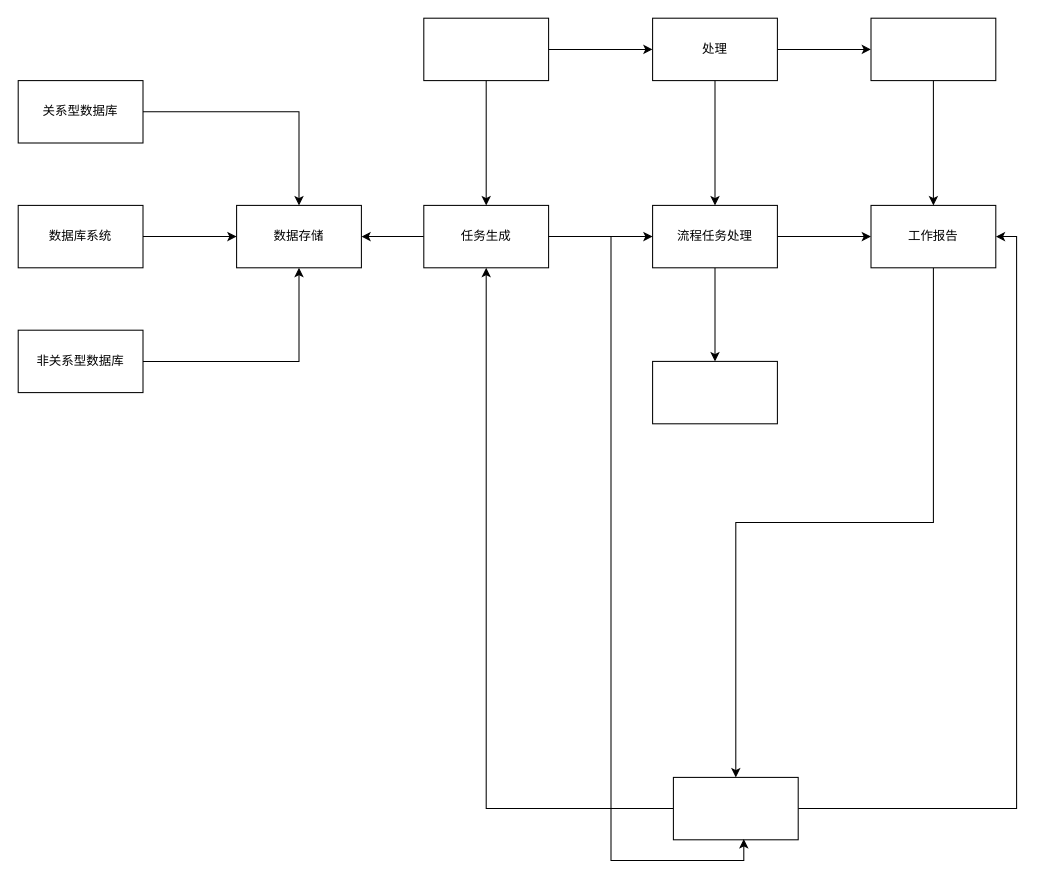
Some shapes in this 1043 by 887 pixel diagram are drawn without their labels. Each missing label, with the centre of its shape:
"业务老师提出的操作逻辑和业务逻辑" goes at point (714, 392).
"输入" goes at point (486, 49).
"输出" goes at point (933, 49).
"邮箱，接口，文件，输入框" goes at point (735, 808).
